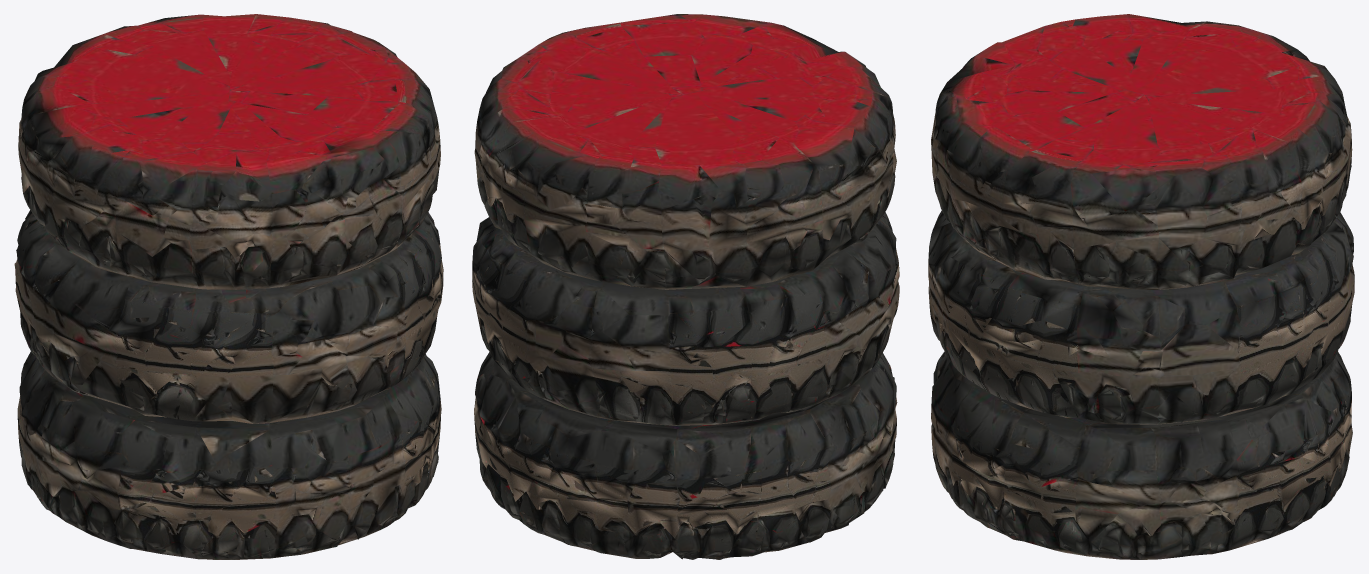
The model's file is tireStack.94256266.glb.
The picture shows the model from 3 angles, left to right: view 1: azimuth 30°, elevation 25°; view 2: azimuth 150°, elevation 25°; view 3: azimuth 270°, elevation 25°; orthographic projection.
Bounding box in the file's own units: 1.89 × 1.9 × 1.89.
Materials: 1 (1 with a texture image).
